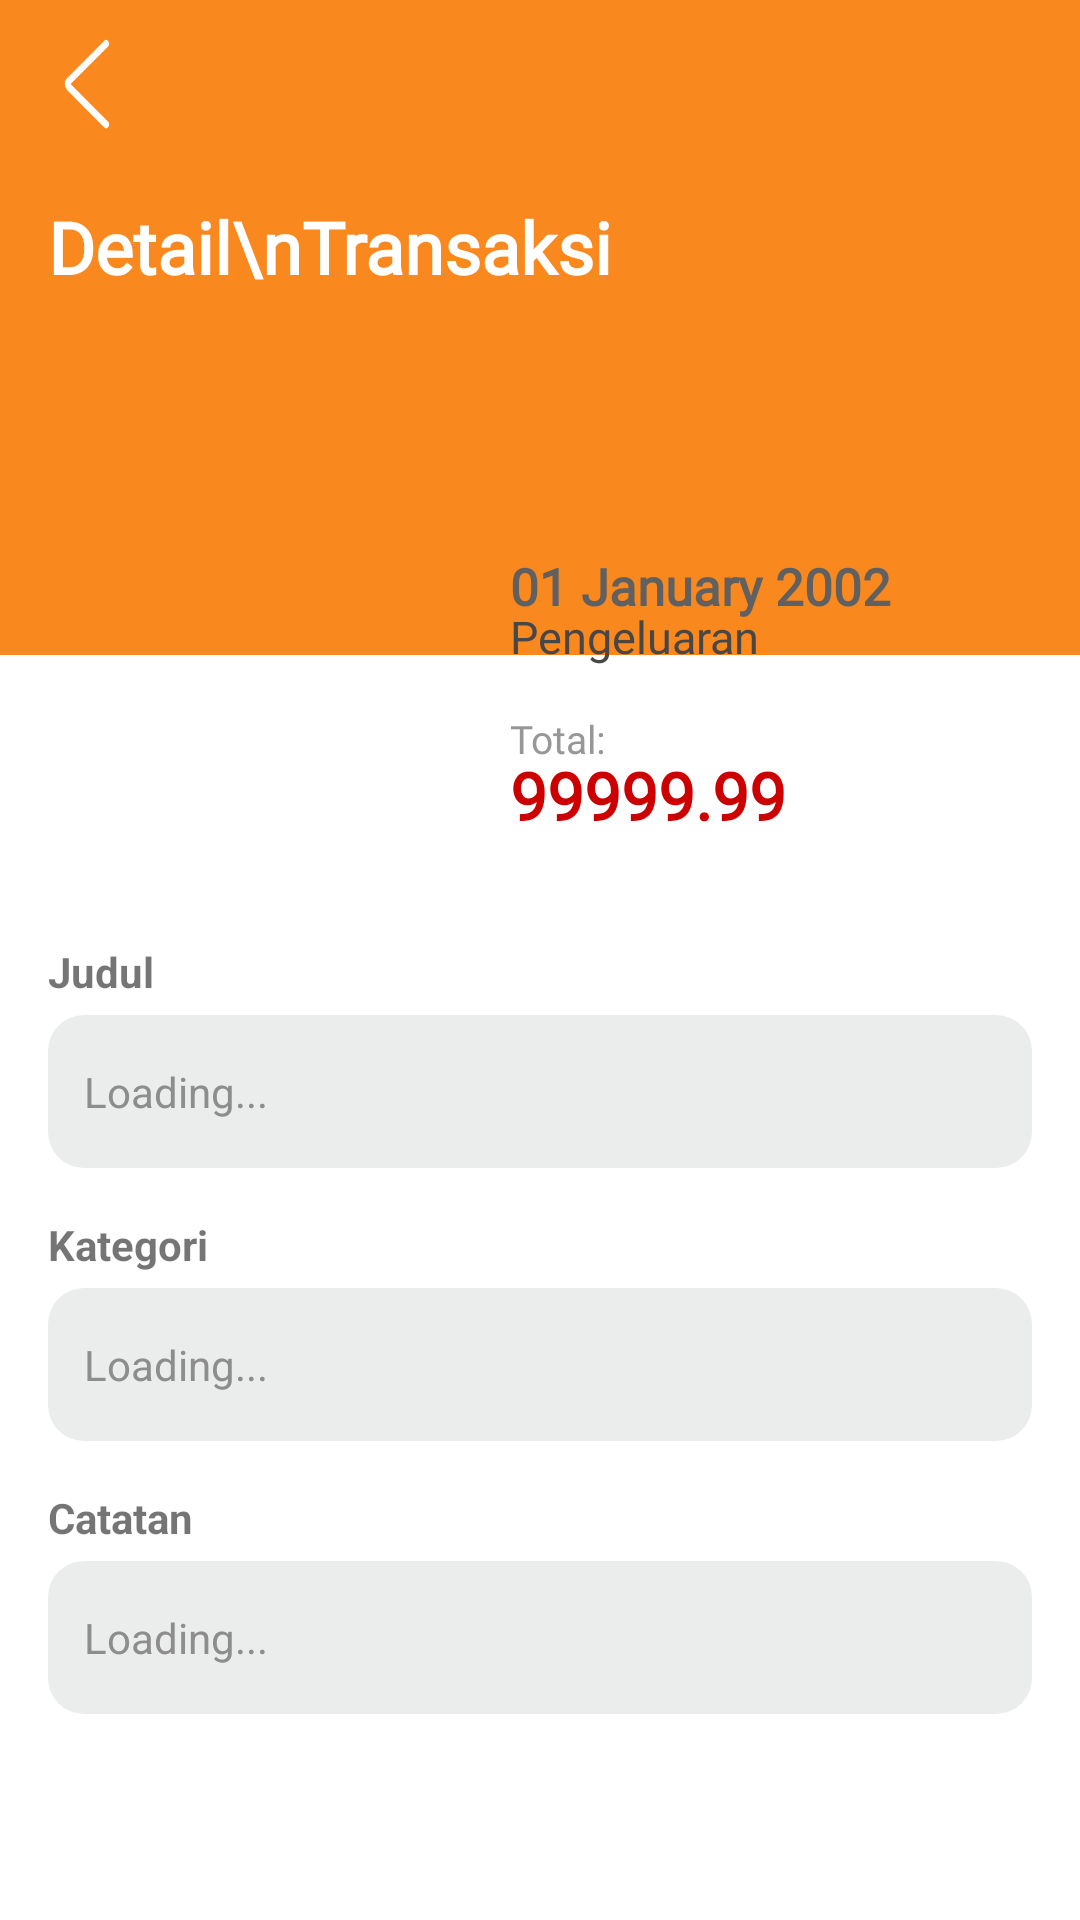

Icon click points for this 1080w x 1920h phone screenshot, format [x,y]:
arrow left: [86,84]
